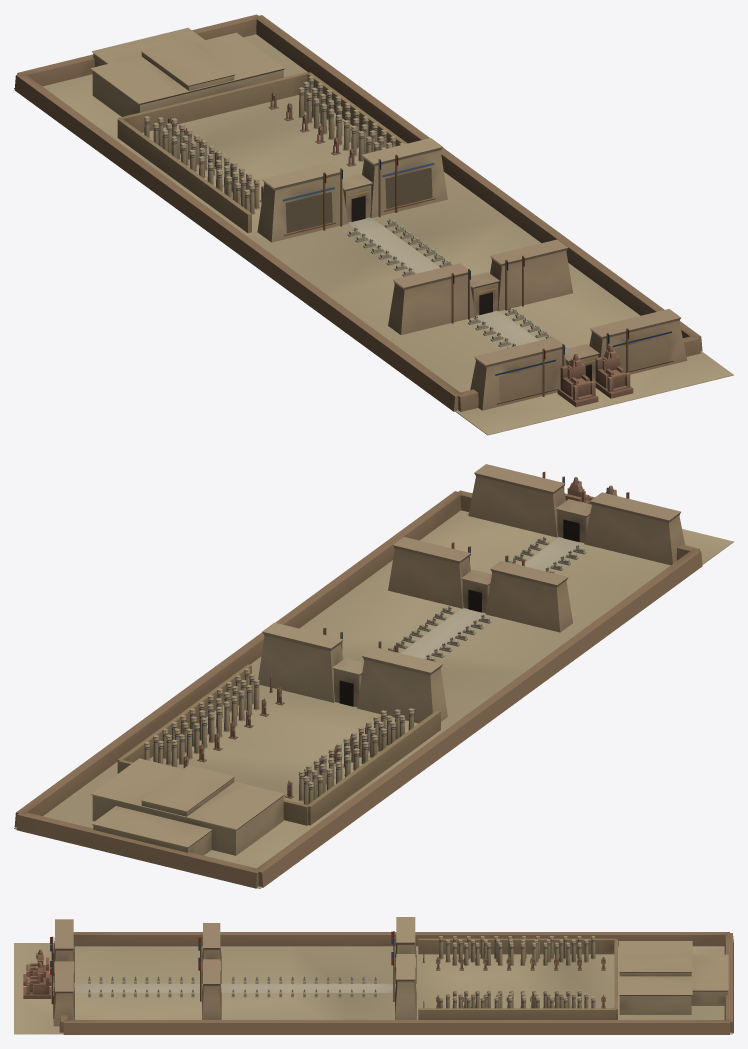
The model's file is colossi-of-memnon.glb.
3 renders of one model, top to bottom at view 1: azimuth 30°, elevation 25°; view 2: azimuth 150°, elevation 25°; view 3: azimuth 270°, elevation 25°, orthographic. The views are drawn at different scales.
Visible parts, largest first — view 1: p0_walls, p1_temple, p2_court, p3_colossi; view 2: p0_walls, p1_temple, p2_court, p3_colossi; view 3: p0_walls, p1_temple, p2_court, p3_colossi.
Boxes of the visible parts, left/top/right/bottom form: p0_walls: left=14, top=14, right=733, bottom=435; p1_temple: left=90, top=27, right=687, bottom=410; p2_court: left=144, top=76, right=404, bottom=214; p3_colossi: left=168, top=91, right=633, bottom=407; p0_walls: left=14, top=490, right=733, bottom=888; p1_temple: left=91, top=464, right=684, bottom=855; p2_court: left=144, top=668, right=414, bottom=804; p3_colossi: left=183, top=477, right=617, bottom=798; p0_walls: left=14, top=932, right=733, bottom=1034; p1_temple: left=50, top=917, right=728, bottom=1026; p2_court: left=439, top=936, right=595, bottom=1008; p3_colossi: left=23, top=949, right=605, bottom=1008.
Bounding box in the file's own units: 121 × 27.15 × 401.
